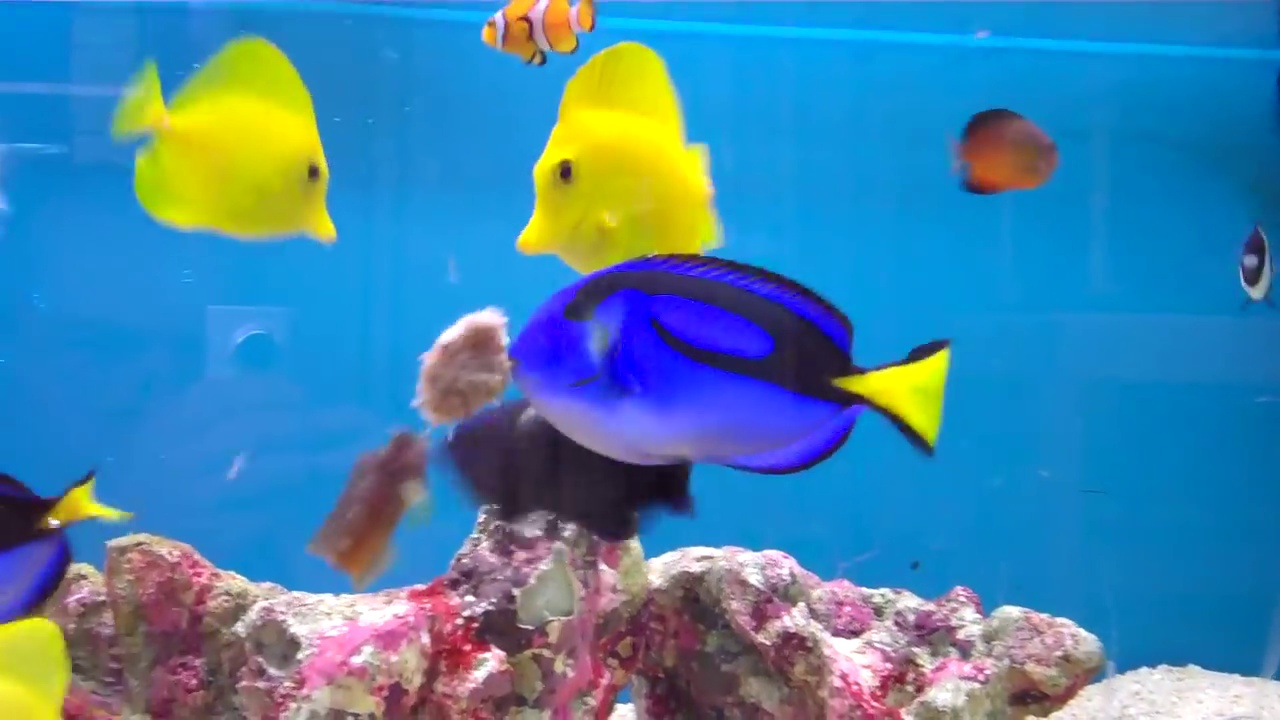blue tang surgeonfish: (494, 243, 949, 501)
saddle butterfly fish: (99, 26, 345, 257), (494, 35, 734, 269)
